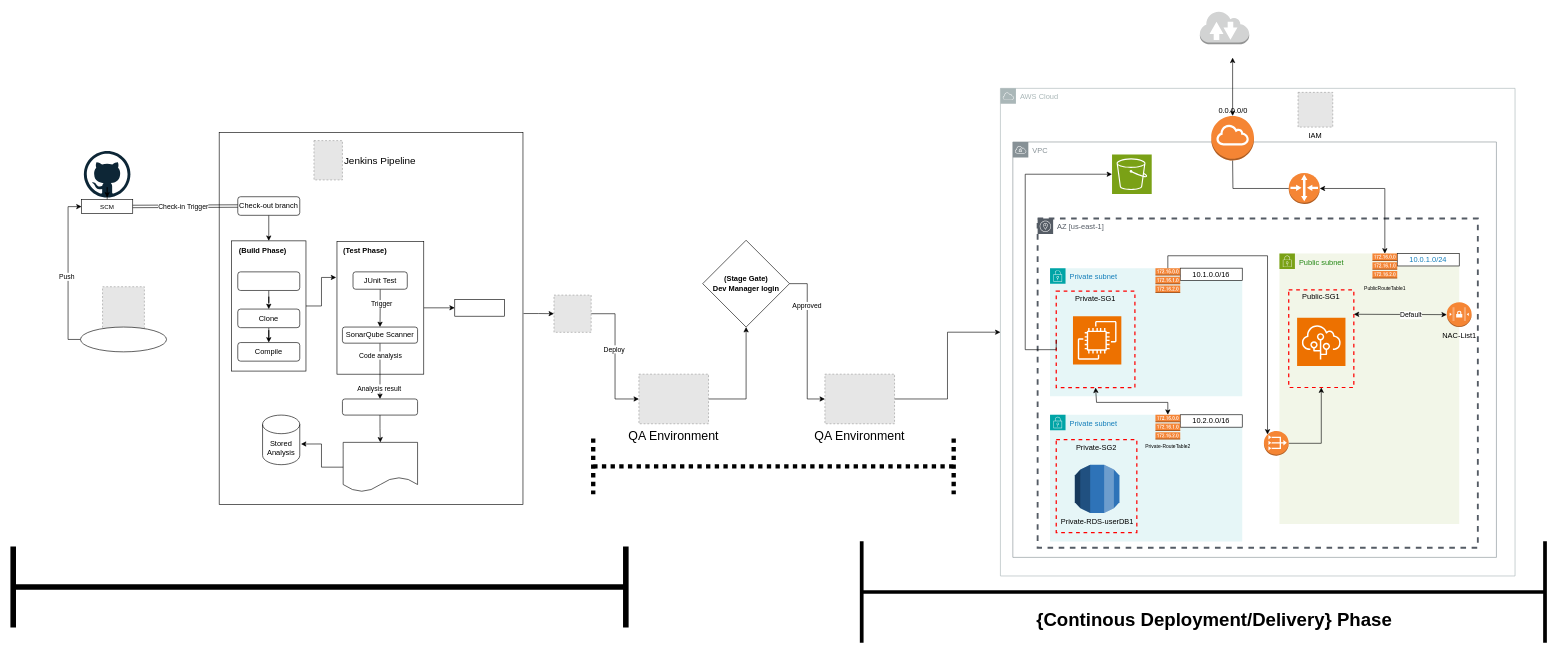
The diagram is 1558 pixels wide and 655 high, and some of its shapes have lost their labels. Grey dashed boxes stand in for pictures. Here are the shapes that lost their labels. From the top down, the centre of each, then its label:
(106,173): Version Control
(1131,174): Private-S3-Rollback
(1304,188): Router1
(268,280): Clean
(1167,280): Private-RouteTable1
(479,307): End
(123,339): PetCare Manager App
(1096,340): Private-EC2-instance1
(1320,341): Public-EBS-env1
(380,406): SonarQube Server
(1276,443): NATGate1
(380,467): Data Visualisation
(773,466): Enterprise Environment Setup
(319,586): {Continous Integration} Phase
